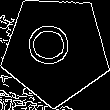O_E: (30, 27, 81, 72)
